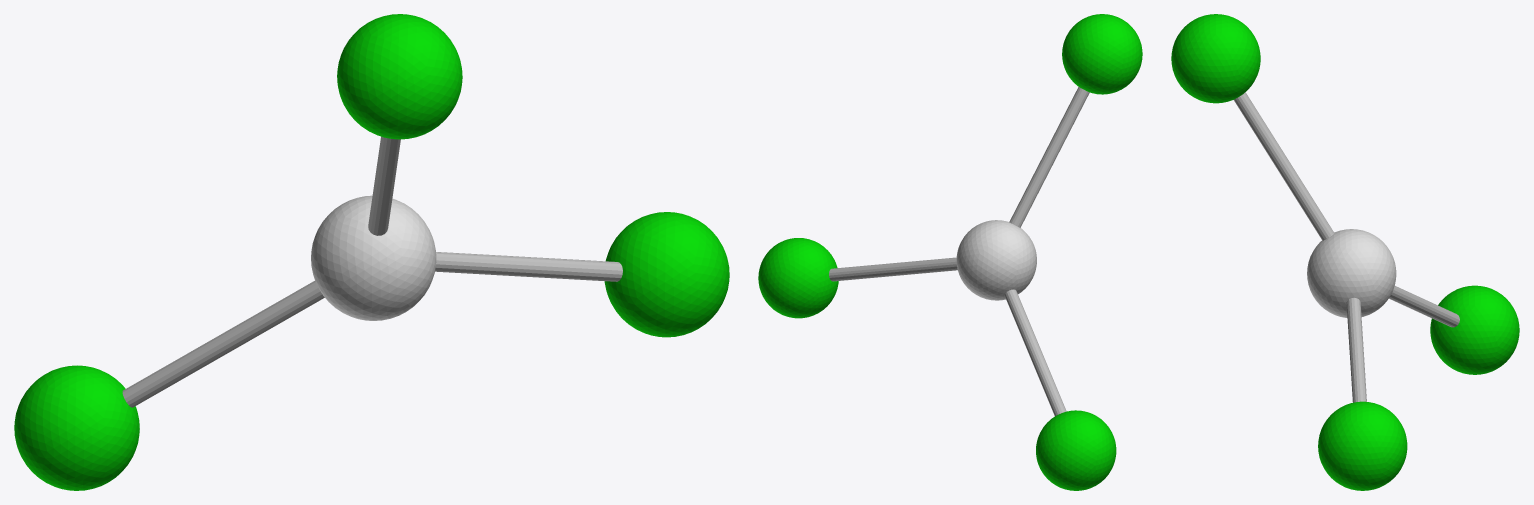
The picture shows the model from 3 angles, left to right: view 1: azimuth 30°, elevation 25°; view 2: azimuth 150°, elevation 25°; view 3: azimuth 270°, elevation 25°; orthographic projection. The views are drawn at different scales.
Parts seen in each view (by area): view 1: world; view 2: world; view 3: world.
Boxes of the visible parts, x1=… form: world: x1=14, y1=14, x2=729, y2=490; world: x1=758, y1=14, x2=1142, y2=490; world: x1=1171, y1=14, x2=1519, y2=490.
Size of the model in its own units: 2.85 by 2.48 by 1.95.
